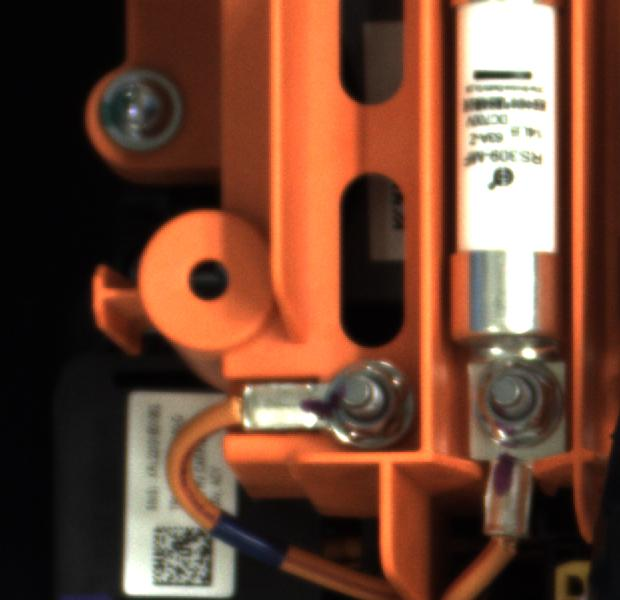screw_m: (85, 64, 200, 166)
screw_s: (481, 360, 575, 451), (328, 356, 407, 441)
